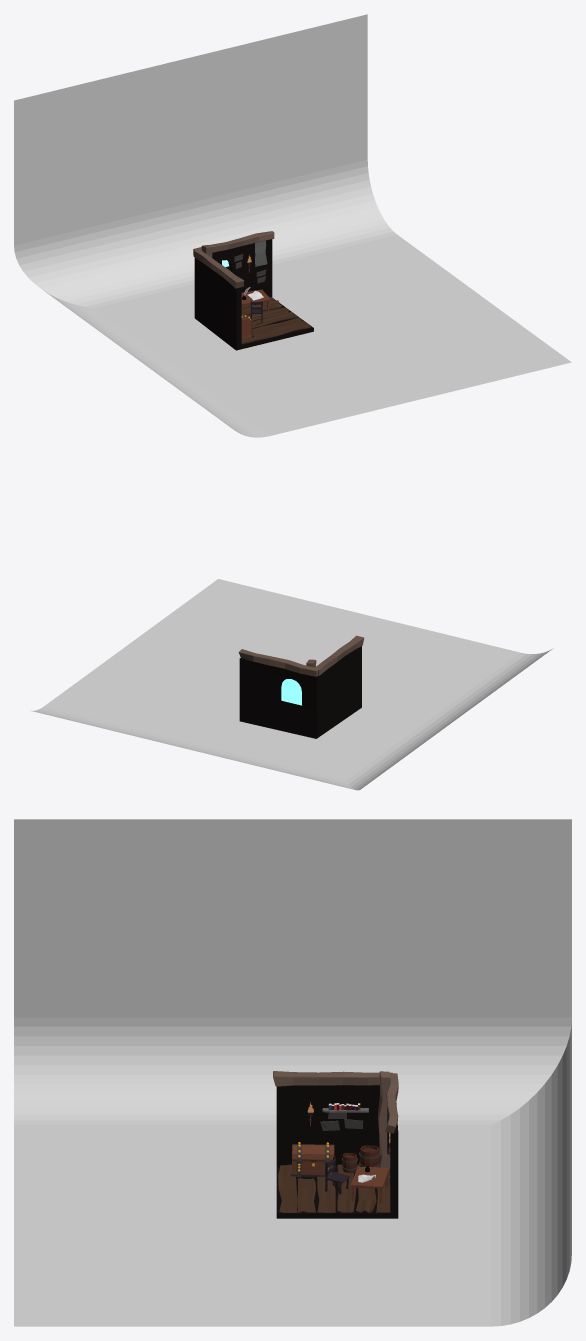
File: medieval+study+room.glb
3 views of the same model, one above another, from view 1: azimuth 30°, elevation 25°; view 2: azimuth 150°, elevation 25°; view 3: azimuth 270°, elevation 25° (orthographic). The views are drawn at different scales.
Parts seen in each view (by area): view 1: Plane.013, Cube.007, Plane.008; view 2: Plane.013, Cube.007, Plane.008, Cube.006; view 3: Plane.013, Cube.007, Plane.008, Cube.011, Plane, Plane.006.
Boxes of the visible parts, box(x1,y1,x2,y2) form: Plane.013: box(14, 14, 571, 437); Cube.007: box(194, 239, 313, 350); Plane.008: box(193, 231, 274, 288); Plane.013: box(30, 579, 553, 790); Cube.007: box(239, 646, 361, 738); Plane.008: box(238, 635, 364, 676); Cube.006: box(281, 679, 301, 705); Plane.013: box(14, 819, 571, 1326); Cube.007: box(276, 1085, 398, 1218); Plane.008: box(273, 1071, 398, 1167); Cube.011: box(290, 1142, 334, 1177); Plane: box(278, 1164, 297, 1212); Plane.006: box(350, 1167, 389, 1203).
Bounding box in the file's own units: 14.91 × 8.08 × 14.91.
